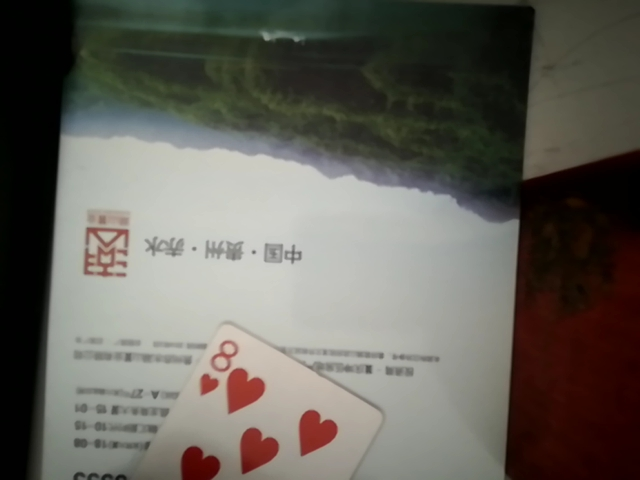hx 8: (77, 337, 393, 478)
